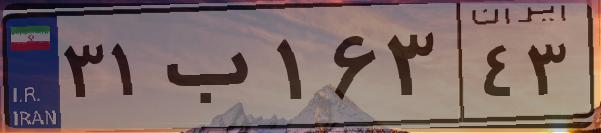1: (270, 28, 330, 110), (110, 28, 158, 98)
3: (385, 28, 445, 110), (57, 26, 110, 100), (525, 38, 570, 115)
4: (475, 38, 525, 113)
6: (330, 28, 385, 110)
ب: (158, 20, 270, 120)
